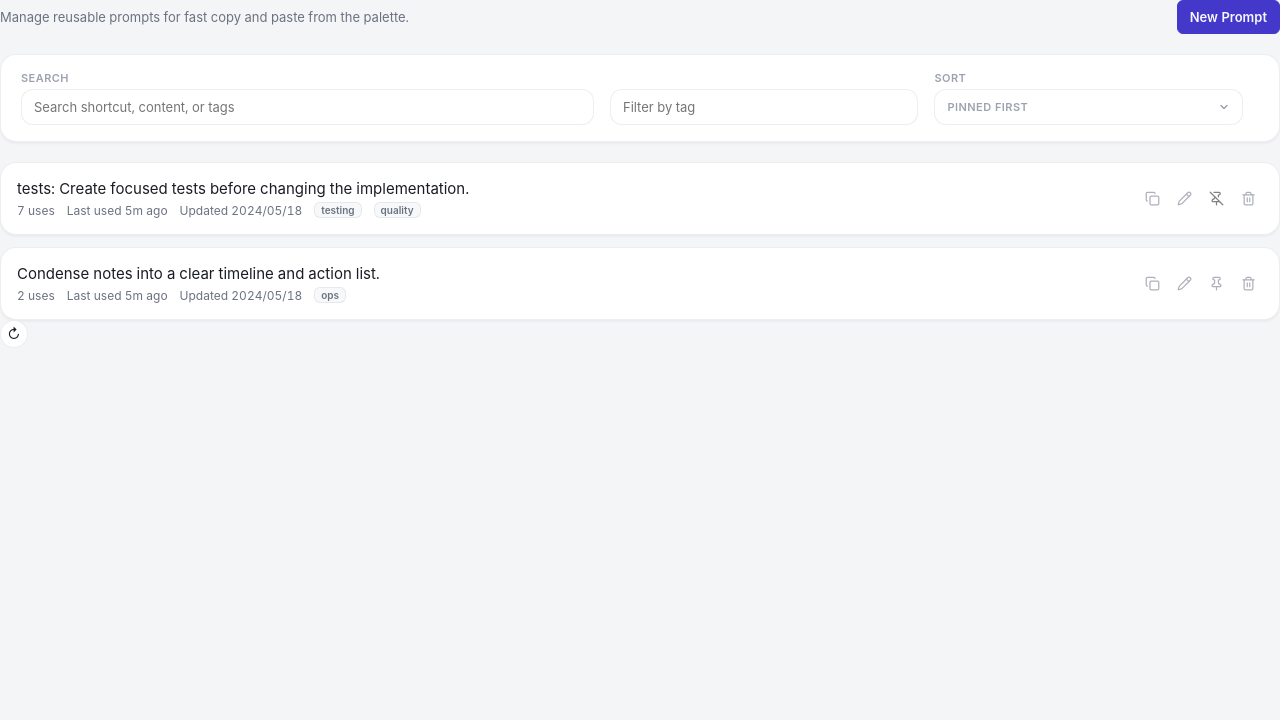
Test: PromptPalettePage › opens a confirmation dialog when clicking delete
Expected: the heading "tests: Create focused tests" is shown, [17, 179, 469, 198]
What coordinates should you click on to do the following:
click the button named "Delete" in the row of "quality"
I would click on:
 (1248, 198)
Its box is [1233, 184, 1263, 214].
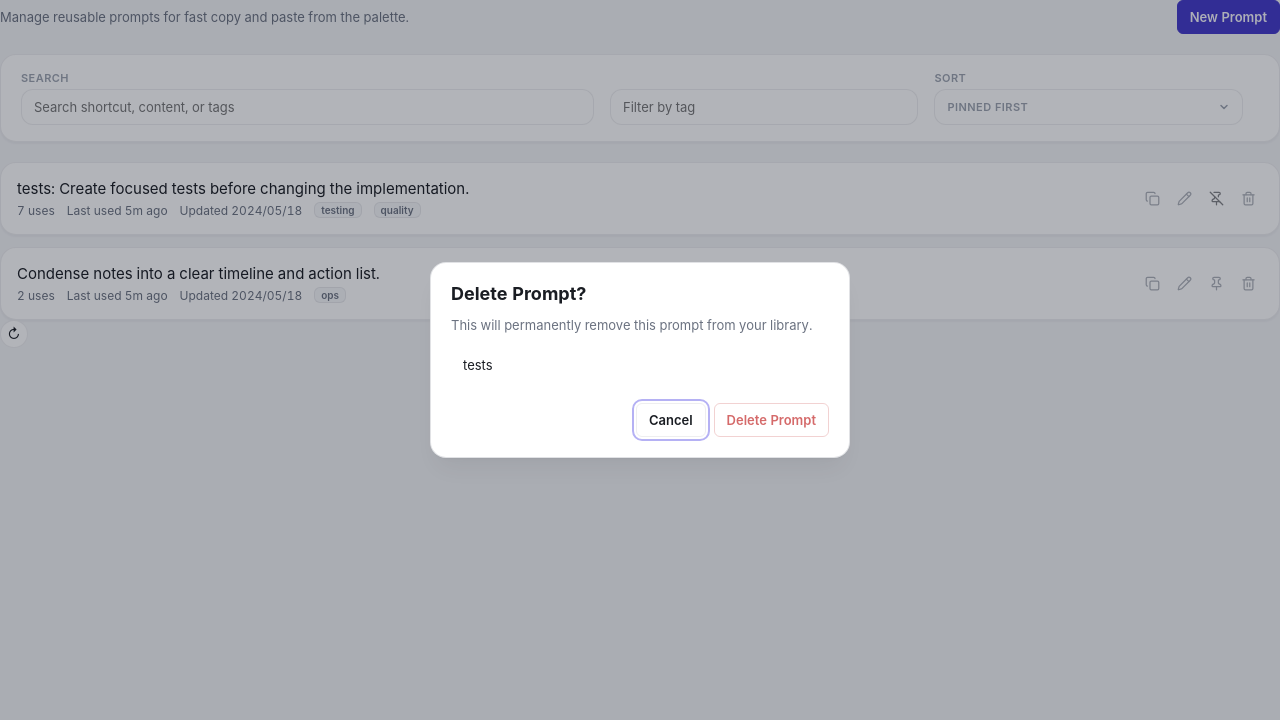
Expected: the heading "Delete Prompt?" is shown, [451, 283, 586, 304]
Expected: the text "This will permanently remove this prompt from your library." is shown, [451, 316, 829, 336]
